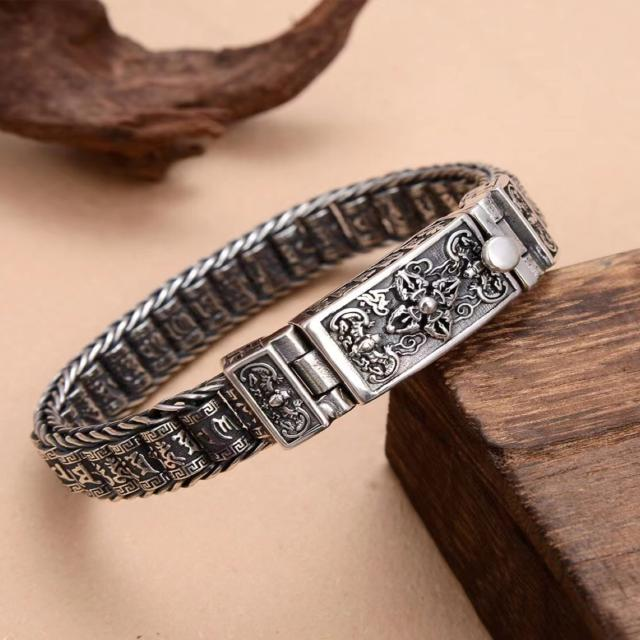bracelet: (0, 96, 573, 559)
